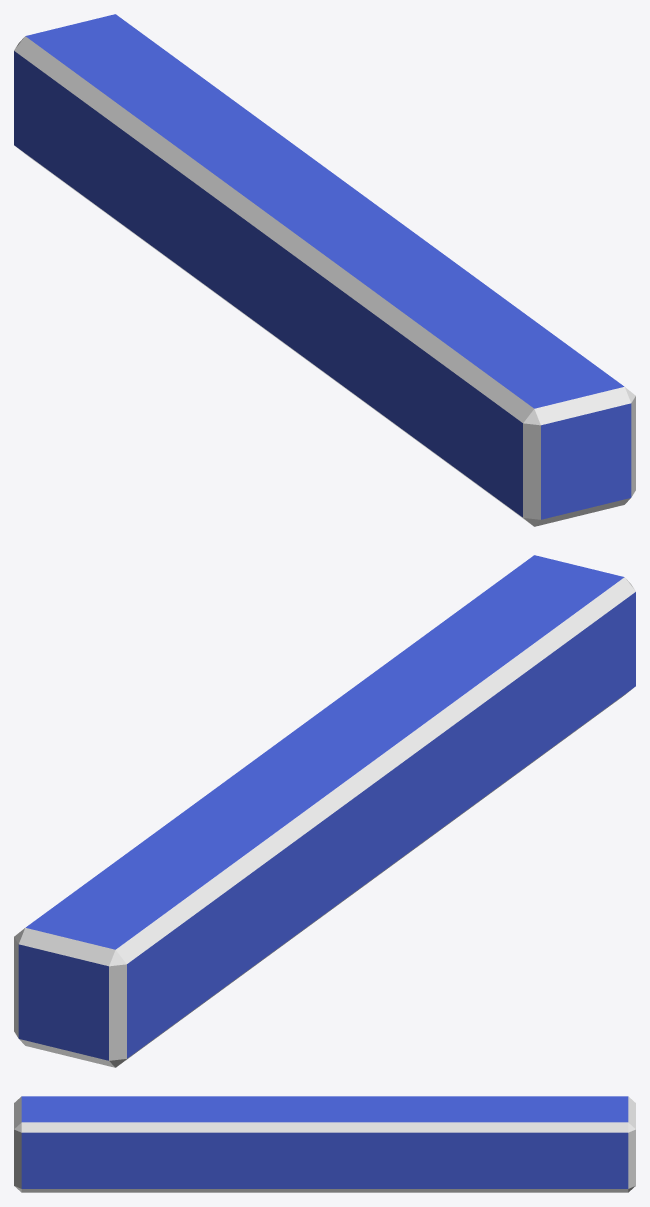
The model's file is Zid 1x8.fbx.
3 views of the same model, one above another, from view 1: azimuth 30°, elevation 25°; view 2: azimuth 150°, elevation 25°; view 3: azimuth 270°, elevation 25° (orthographic). The views are drawn at different scales.
Visible parts, largest first — view 1: Cube.016; view 2: Cube.016; view 3: Cube.016.
Boxes of the visible parts, x1,y1,x2,y2 form: Cube.016: (14, 14, 635, 526); Cube.016: (14, 555, 635, 1067); Cube.016: (14, 1096, 635, 1192).
Size of the model in its own units: 1 by 1 by 8.01.
